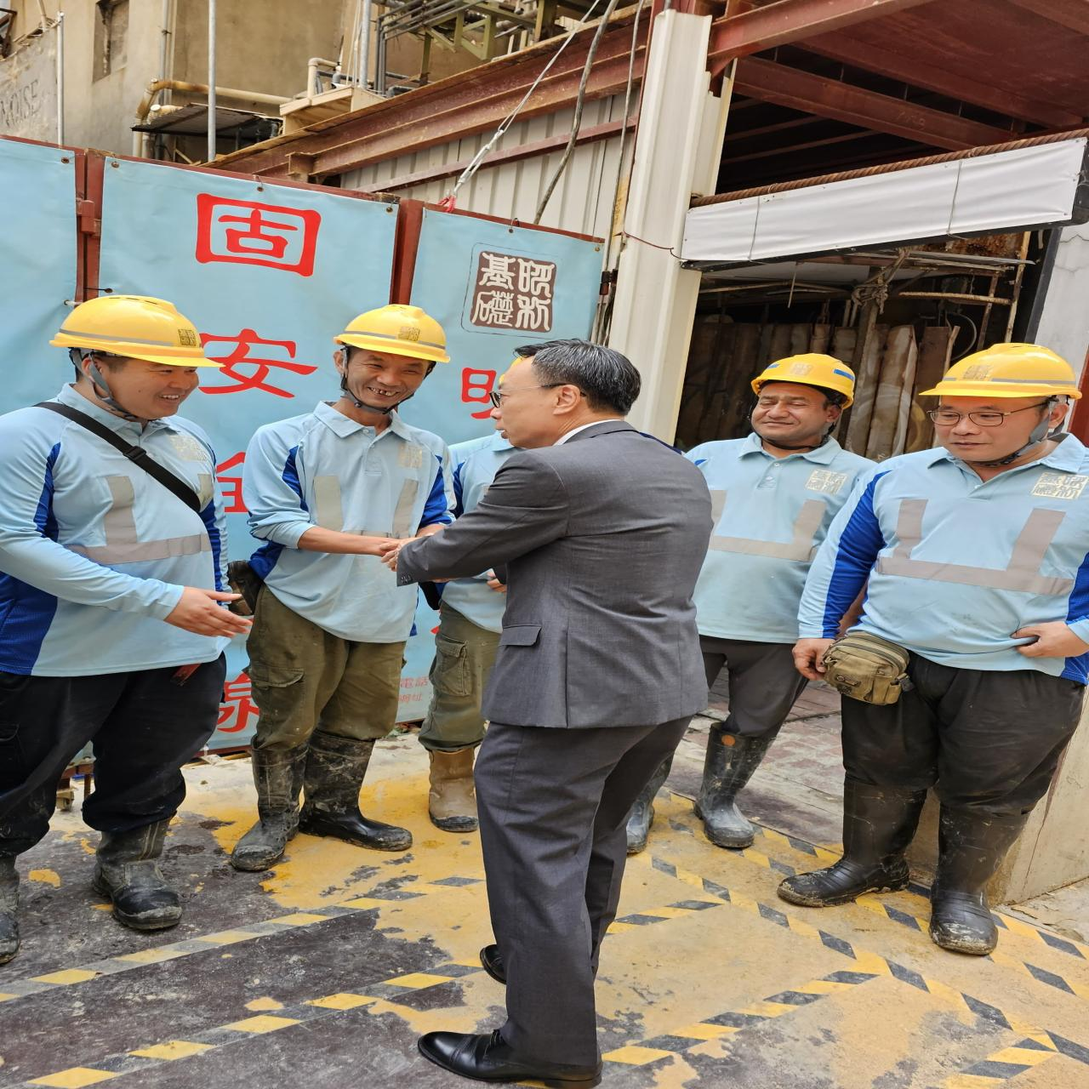NO_Safety_Vest: (478, 444, 726, 721), (0, 408, 238, 674), (874, 441, 1089, 683), (246, 419, 458, 639), (686, 439, 875, 655)
Person: (351, 328, 762, 1089), (760, 329, 1089, 952), (0, 268, 262, 954), (624, 329, 891, 864), (220, 289, 449, 881)
